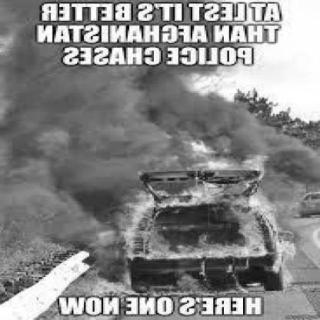Fire: (85, 167, 291, 296)
Smoke: (4, 72, 256, 180)
